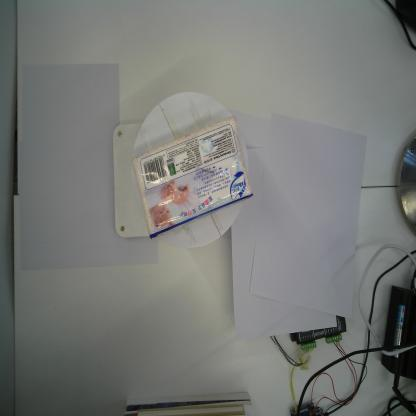Tissue: (131, 113, 254, 240)
